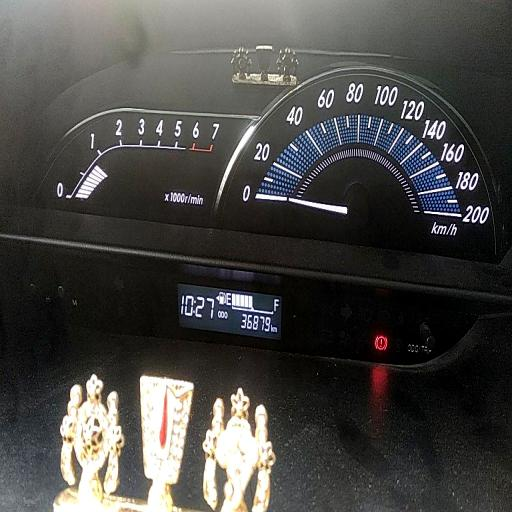brake_system_fault: (375, 334, 387, 351)
tachometer: (35, 106, 259, 228)
